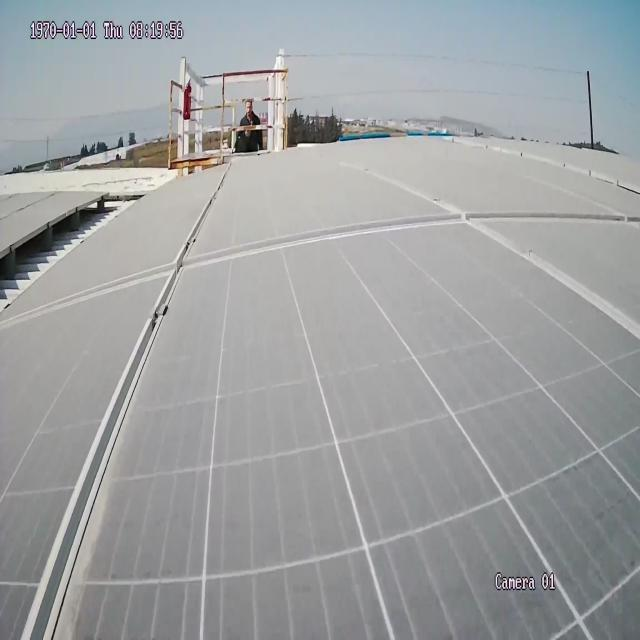interior panel: (6, 172, 640, 636)
test-fotogroflari: (0, 188, 151, 312)
